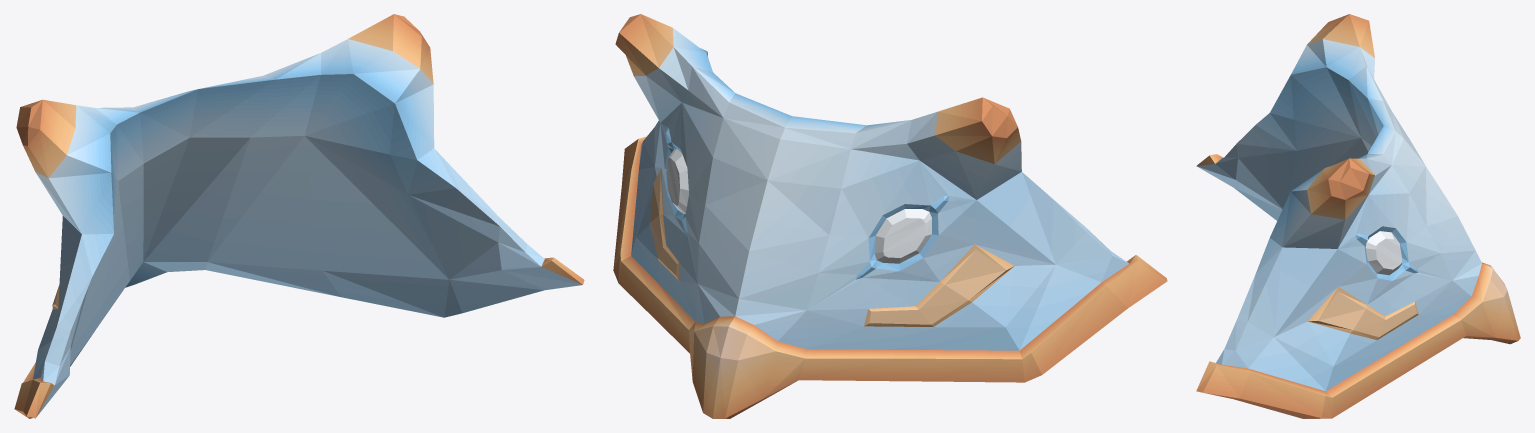
The model's file is CharSkyKid_Mask_APDirector_01.glb.
The picture shows the model from 3 angles, left to right: view 1: azimuth 30°, elevation 25°; view 2: azimuth 150°, elevation 25°; view 3: azimuth 270°, elevation 25°; orthographic projection. The views are drawn at different scales.
Visible parts, largest first — view 1: CharSkyKid_Mask_APDirector_01; view 2: CharSkyKid_Mask_APDirector_01; view 3: CharSkyKid_Mask_APDirector_01.
Part boxes in pixels (x1=…): CharSkyKid_Mask_APDirector_01: x1=14, y1=14, x2=584, y2=418; CharSkyKid_Mask_APDirector_01: x1=613, y1=14, x2=1167, y2=418; CharSkyKid_Mask_APDirector_01: x1=1196, y1=14, x2=1520, y2=418.
Bounding box in the file's own units: 3.62 × 1.87 × 2.16.
Materials: 1 (1 with a texture image).
